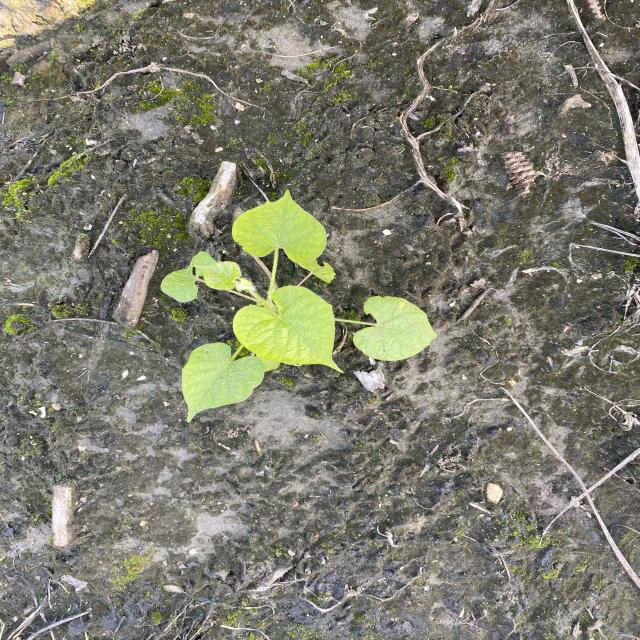MorningGlory: (158, 189, 440, 424)
